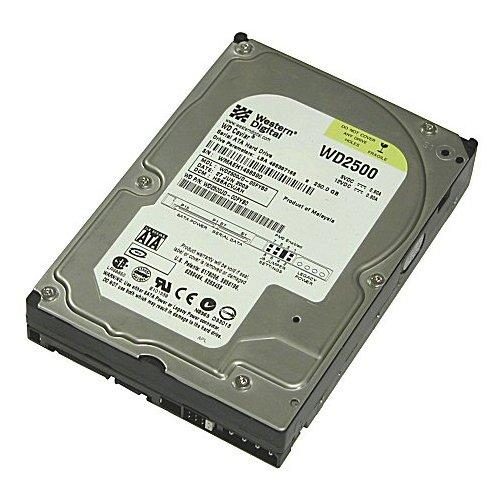internal HDD: (25, 32, 478, 469)
